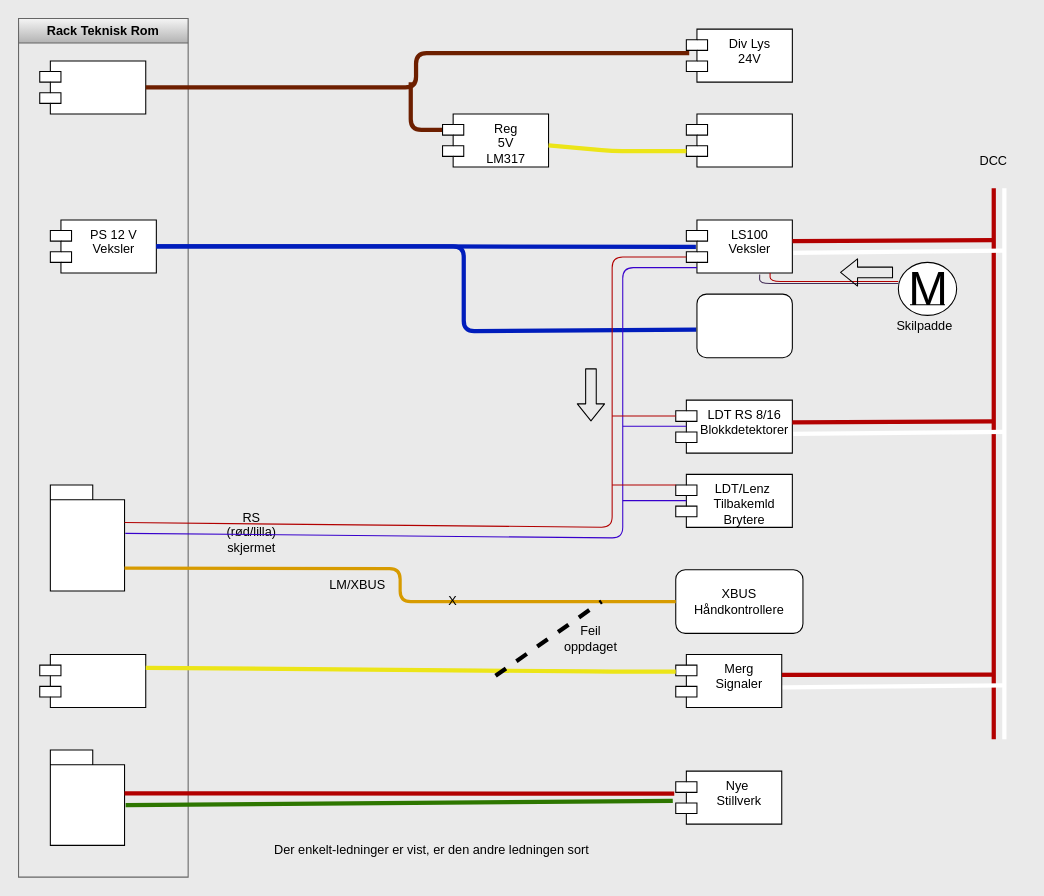
Image size: 1044x896. Some labels were removed from this diagram. The shapes that lost their labels are listed below. From the top down, each one's centre as x and y in pixels, then its label:
At (x=92, y=87): "PS 24 V Lys".
At (x=738, y=140): "Div Lys 5V".
At (x=744, y=325): "Veksler".
At (x=87, y=537): "Sentral Kontroll".
At (x=92, y=680): "PS 12 V Signal".
At (x=87, y=797): "Sentral Stillverk".
